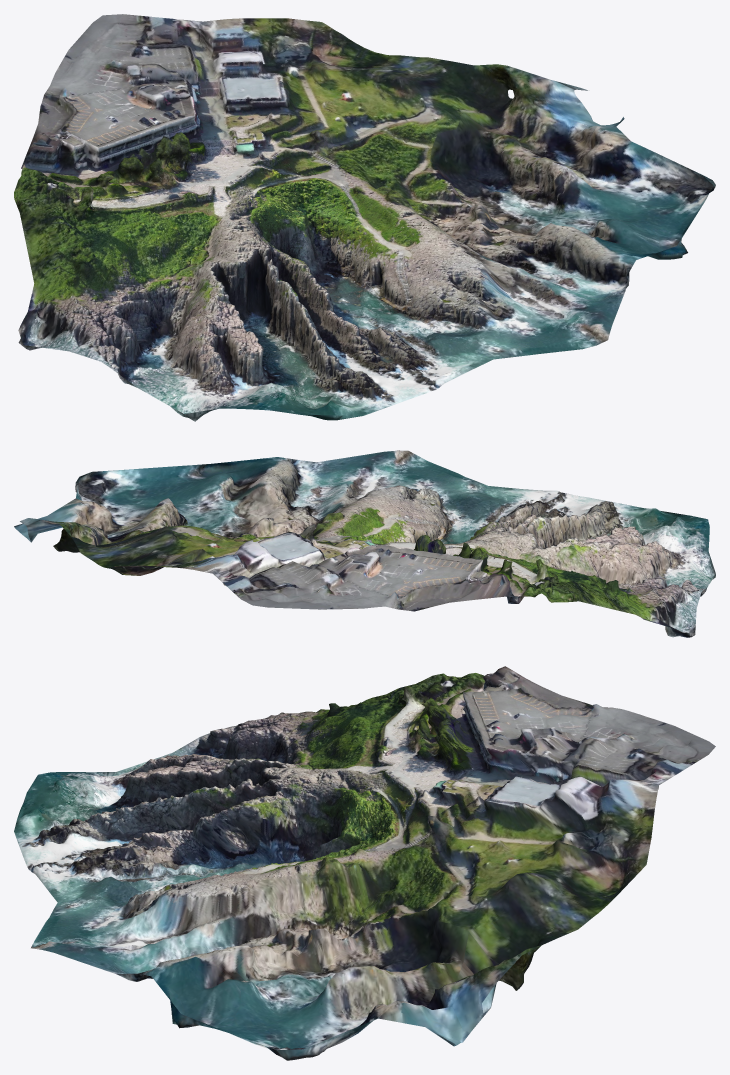
Rendered from tojinbo-base1.glb.
The picture shows the model from 3 angles, top to bottom: view 1: azimuth 30°, elevation 25°; view 2: azimuth 150°, elevation 25°; view 3: azimuth 270°, elevation 25°; orthographic projection. The views are drawn at different scales.
Visible parts, largest first — view 1: baked_mesh; view 2: baked_mesh; view 3: baked_mesh.
Boxes of the visible parts, left/top/right/bottom form: baked_mesh: left=14, top=14, right=715, bottom=421; baked_mesh: left=14, top=450, right=715, bottom=637; baked_mesh: left=14, top=666, right=715, bottom=1060.
Bounding box in the file's own units: 288 × 55.65 × 252.
1 material, 1 textured.
